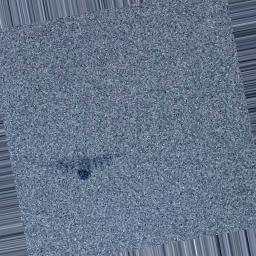Airplane: (45, 151, 119, 180)
